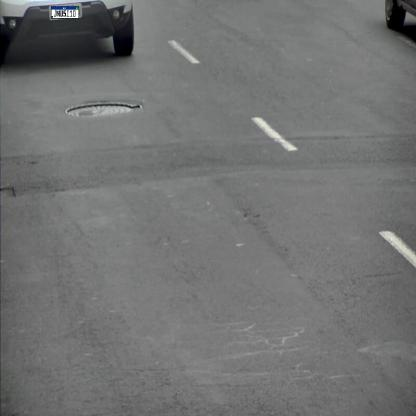PlacaM: (51, 6, 79, 19)
